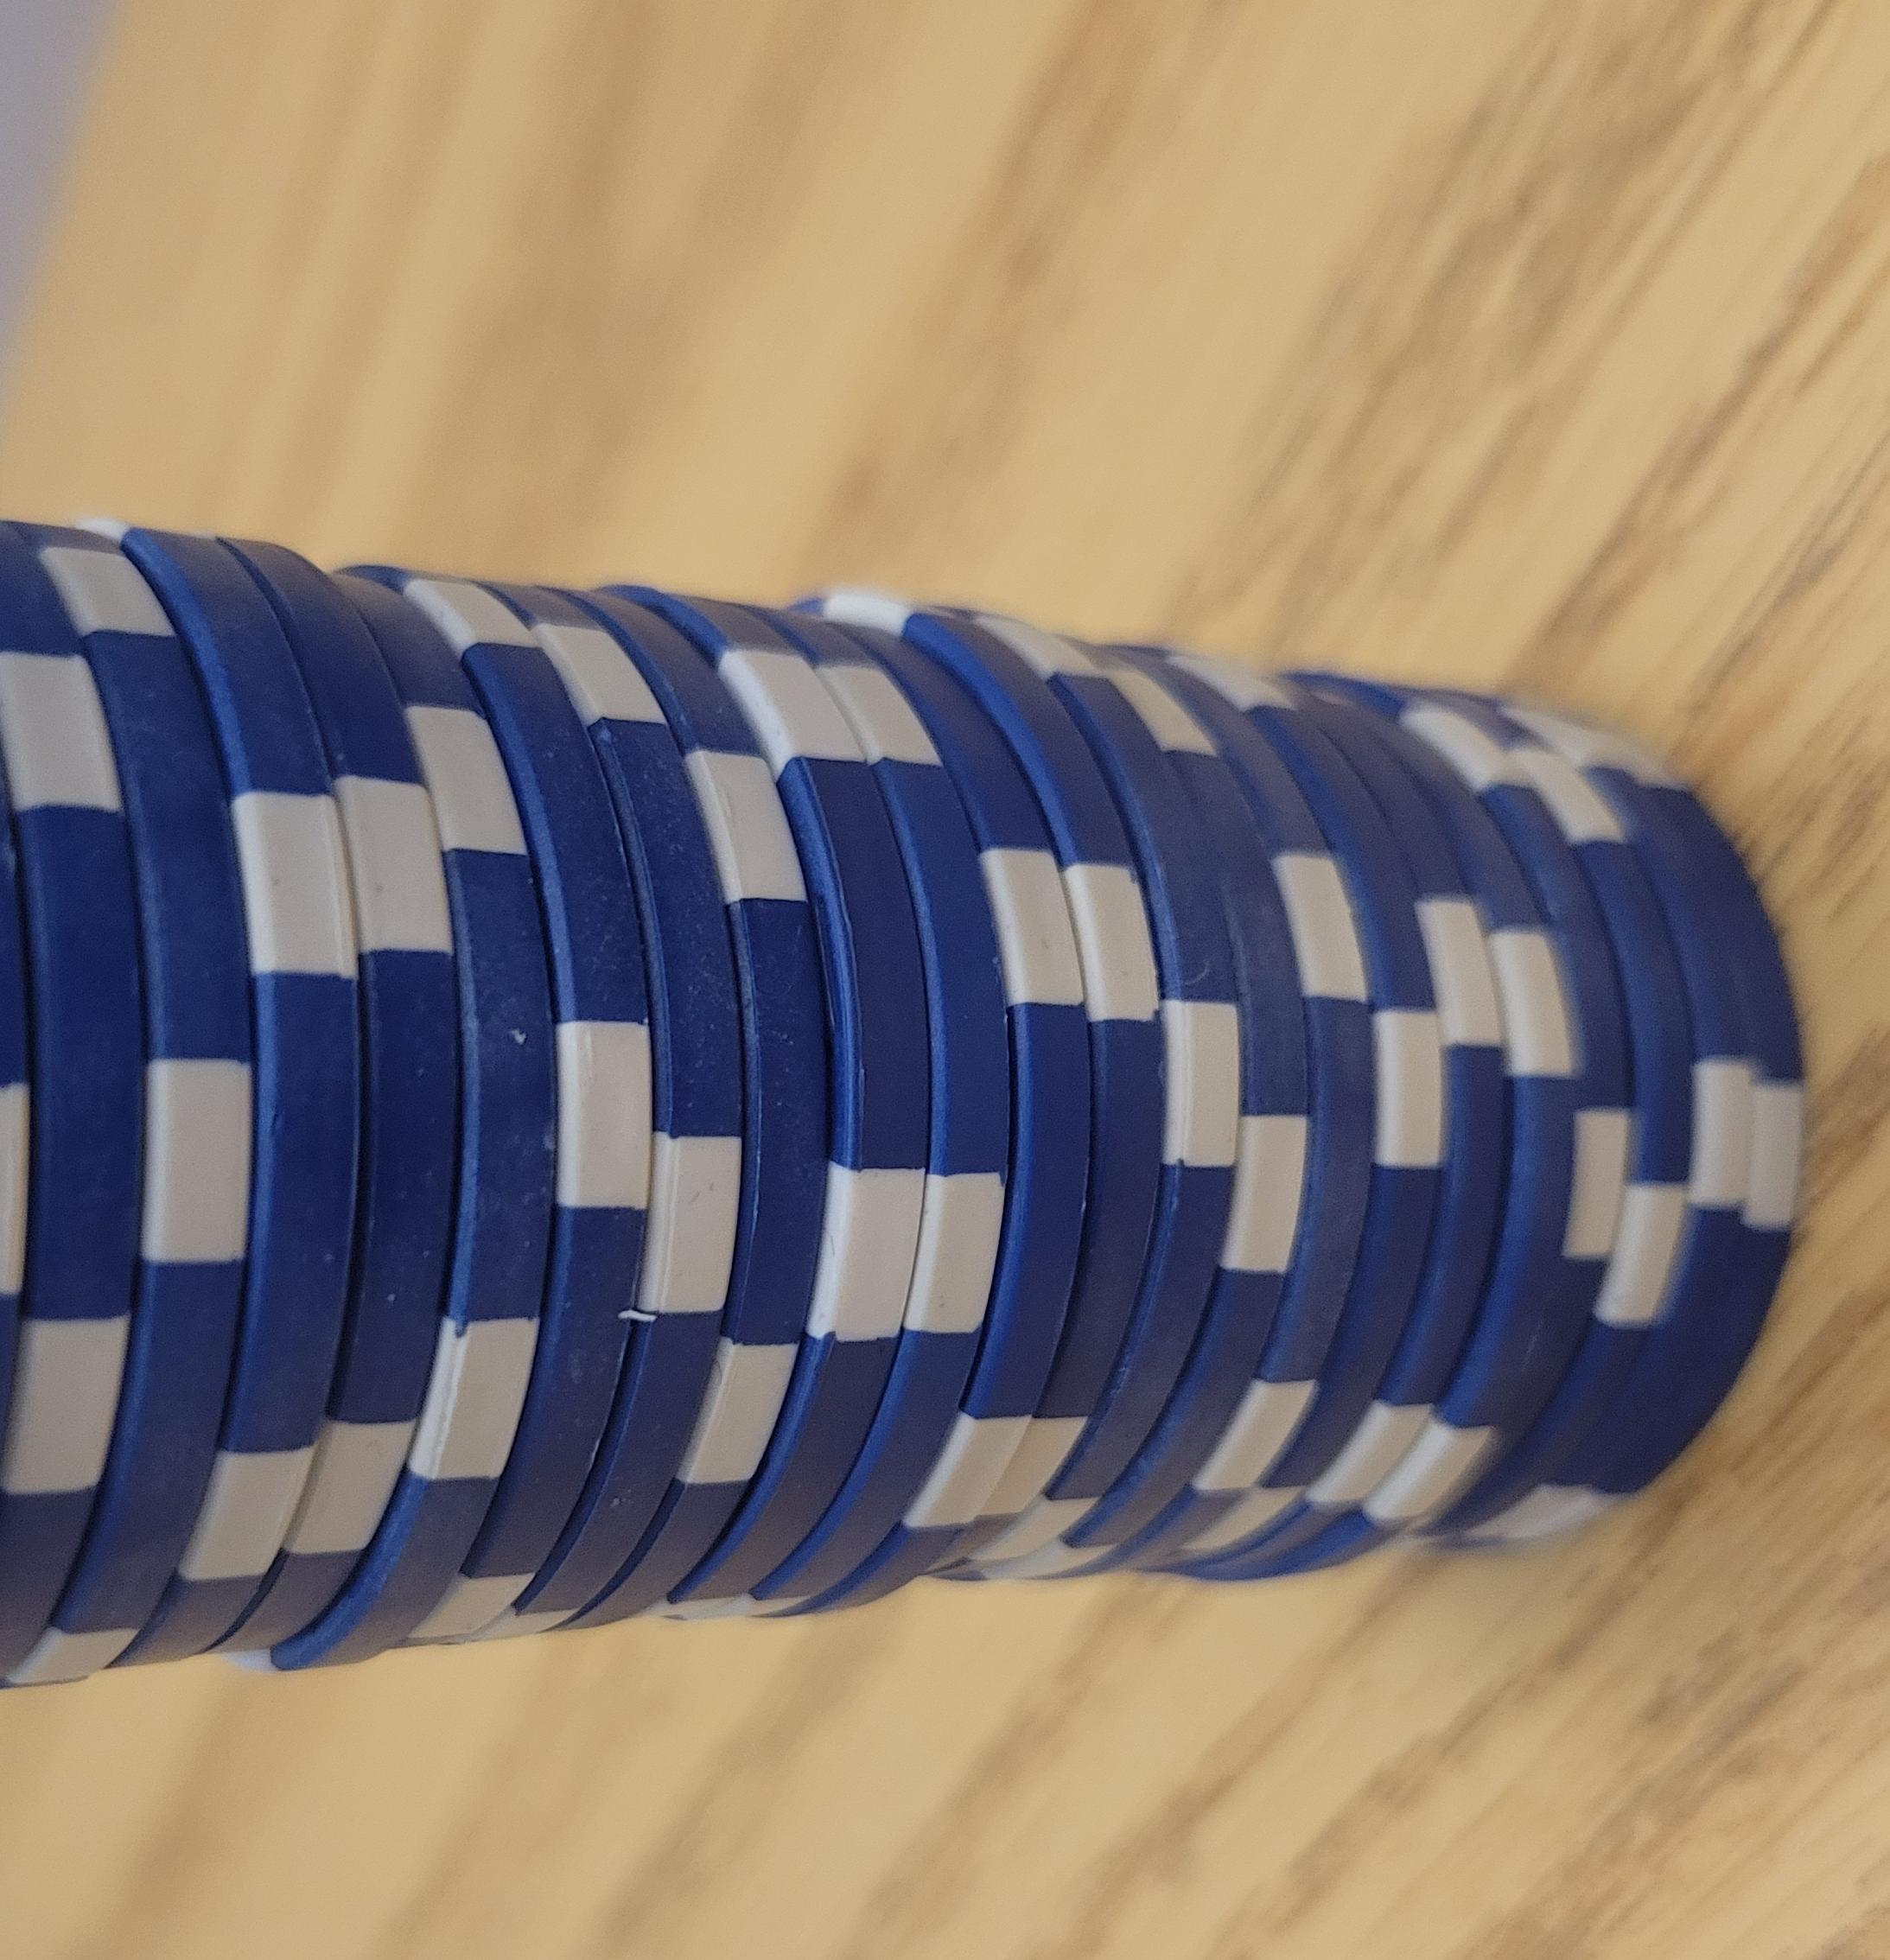Chip: (0, 44, 1199, 1960)
